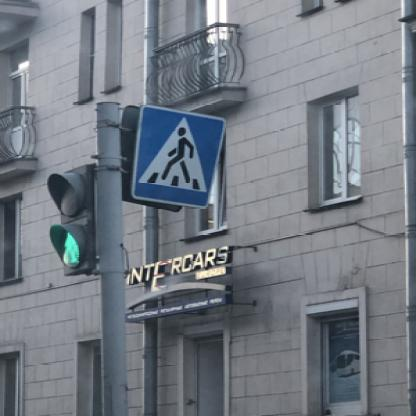crosswalk: (127, 103, 222, 207)
trafficlight: (43, 163, 97, 277)
